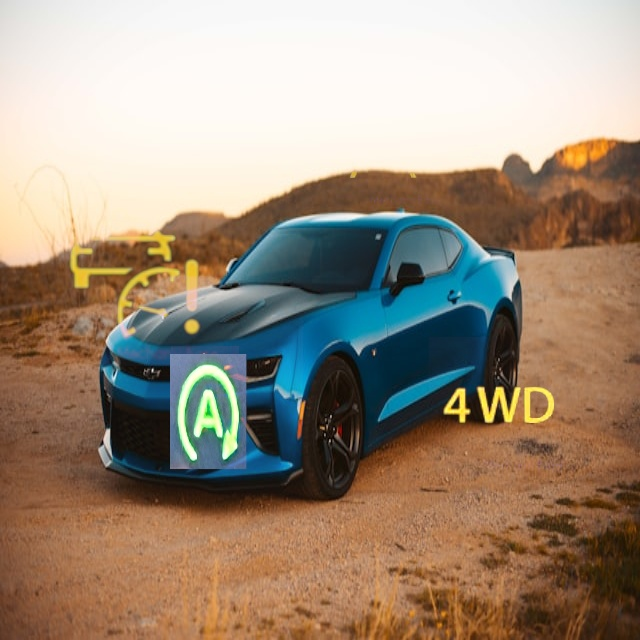symbol: (107, 311, 303, 507), (42, 186, 222, 366), (429, 337, 568, 476), (322, 87, 445, 210)
